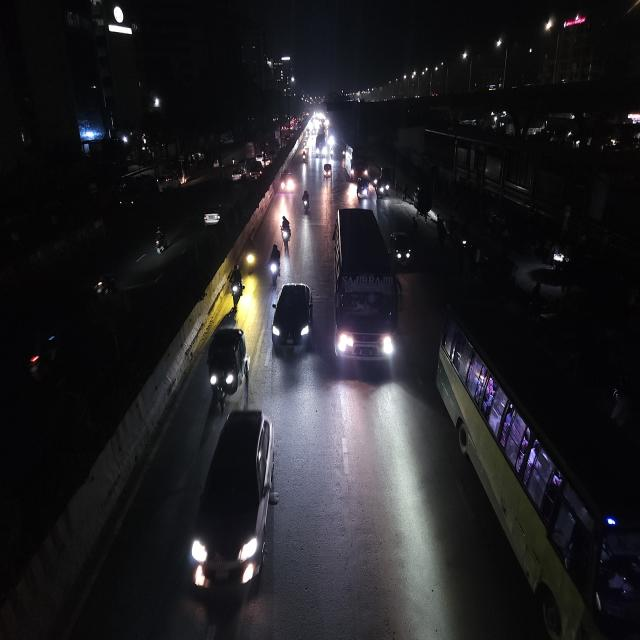bus: (432, 298, 640, 640), (330, 203, 399, 380), (345, 146, 368, 181), (314, 137, 327, 158), (322, 162, 334, 182)
car: (190, 404, 278, 616), (270, 279, 315, 359), (202, 200, 224, 230), (247, 158, 263, 181), (230, 167, 245, 184)
cng: (205, 322, 249, 411), (389, 226, 413, 271), (377, 163, 393, 200), (355, 172, 370, 207)
motorcycle: (227, 265, 245, 308), (243, 234, 259, 276), (267, 242, 282, 284), (152, 223, 168, 259), (300, 187, 312, 216), (279, 220, 290, 250), (301, 146, 309, 165)
pedestrian: (410, 215, 420, 242), (401, 178, 407, 203)
pickup_van: (280, 166, 296, 196)
